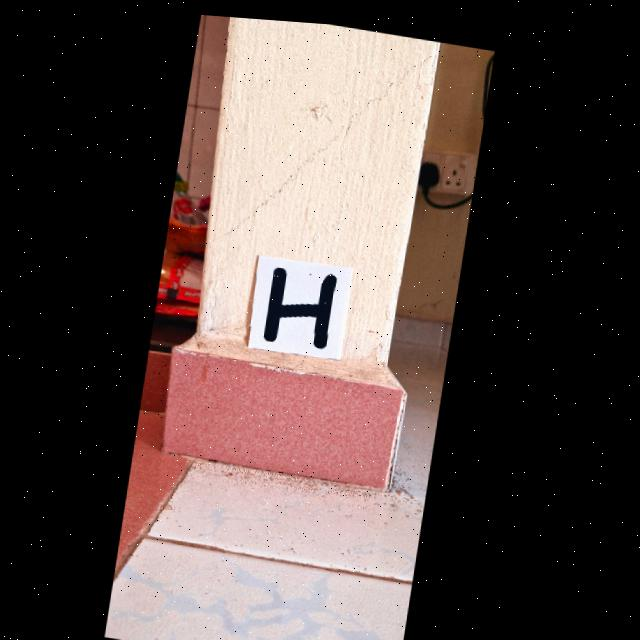H: (267, 262, 340, 343)
